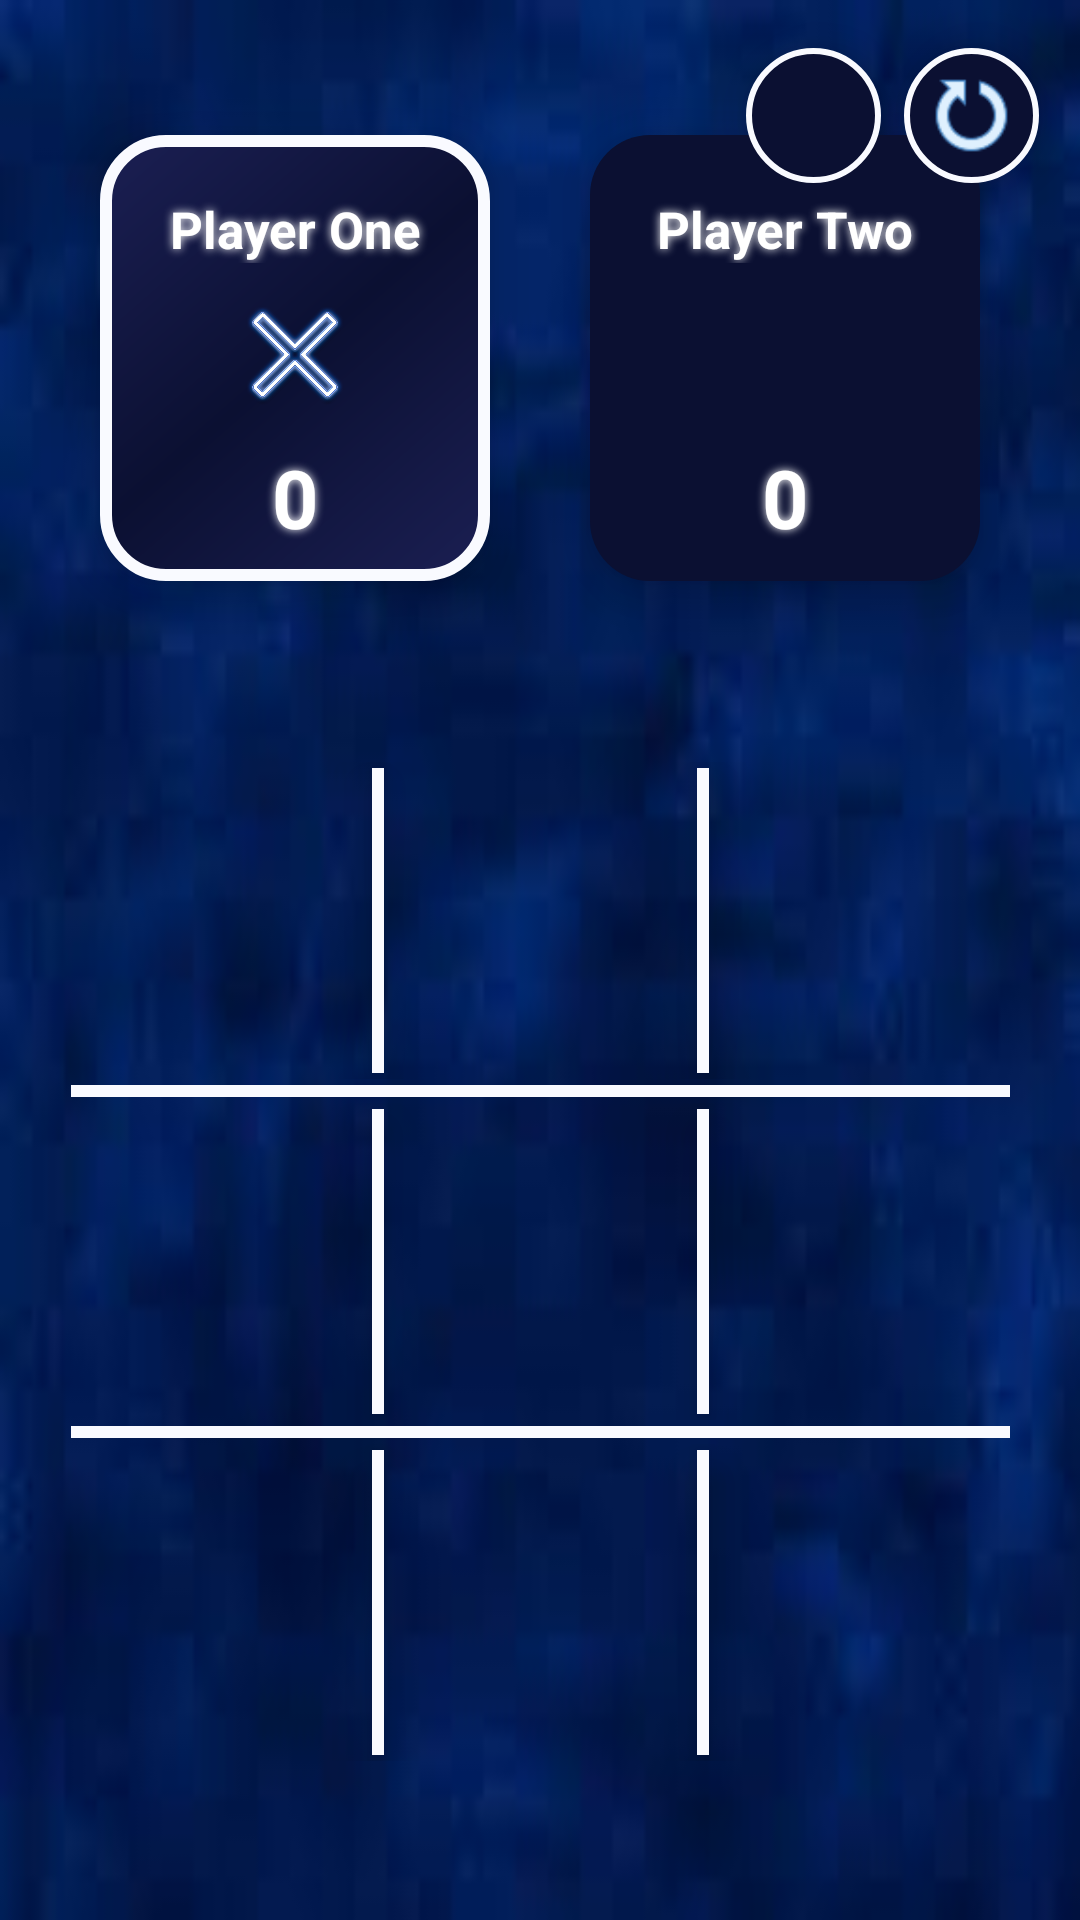

Screen size 1080x1920. Icon name, then its center in pixels as point (x, y):
restart: point (971, 115)
